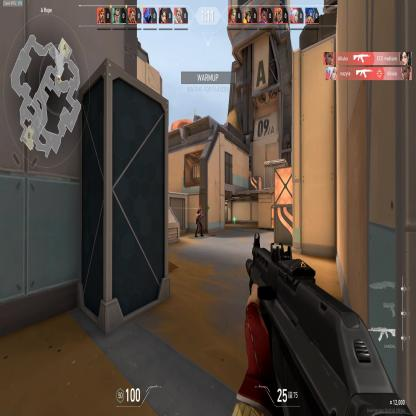enemy: (194, 204, 205, 240)
